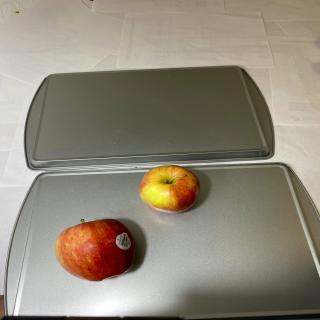Apple: (54, 218, 136, 282), (139, 164, 200, 213)
